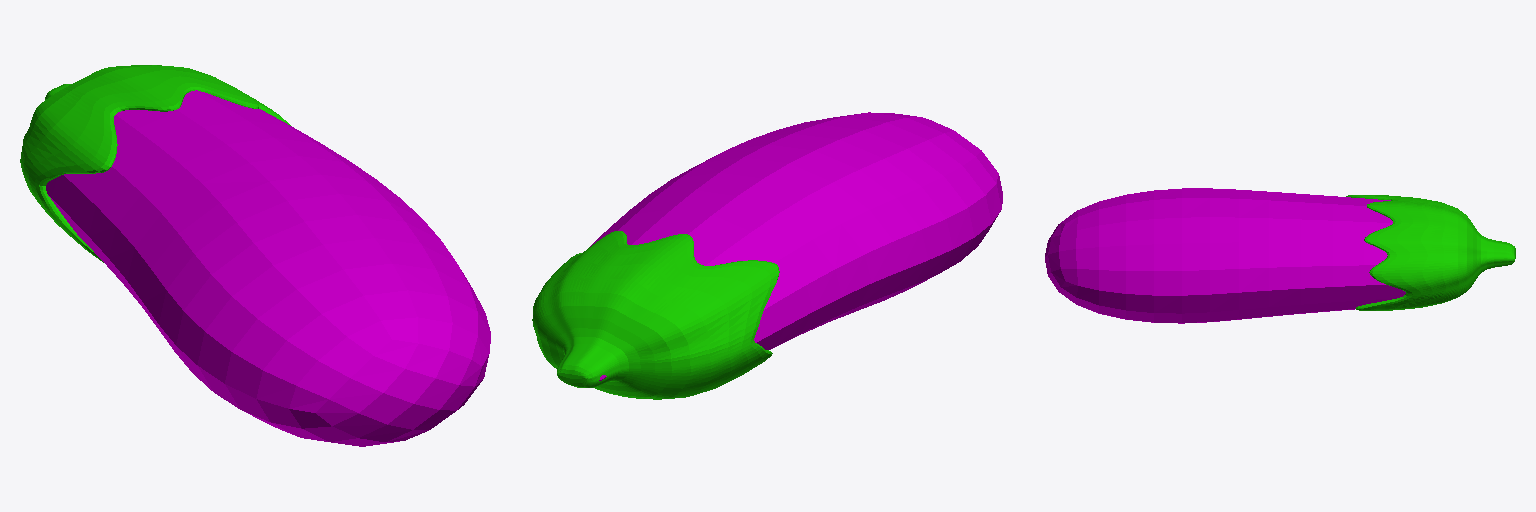
robot.urdf — eggplant:
<robot name="eggplant">
  <link name="body">
    <visual>
      <origin xyz="0 0 0" rpy="0 1.57 1.57"/> 
      <geometry>
        <mesh filename="eggplant_body.obj" scale="0.015 0.025 0.025"/>
      </geometry>
      <material name="Purple">
        <color rgba="0.8 0 0.8 1.0"/>
      </material>
    </visual>
    <collision>
      <geometry>
        <box size="0.04 0.04 0.04"/> <!-- 使用立方体作为简化的碰撞体 -->
      </geometry>
    </collision>
    <inertial>
      <mass value="0.1"/> <!-- 设置质量为0.1单位 -->
      <inertia ixx="0.001" iyy="0.001" izz="0.001" ixy="0" ixz="0" iyz="0"/> <!-- 简单的惯性矩阵 -->
    </inertial>
  </link>

  <link name="leaf">
    <visual>
      <origin xyz="0 0 0" rpy="0 1.57 0"/> 
      <geometry>
        <mesh filename="eggplant_leaf.obj" scale="0.015 0.025 0.025"/>
      </geometry>
      <material name="Green">
        <color rgba="0.143275 0.800000 0.049616 1.0"/> <!-- 叶子绿色 -->
      </material>
    </visual>
    <collision>
      <geometry>
        <box size="0.01 0.01 0.01"/> <!-- 使用更小的立方体作为简化的碰撞体 -->
      </geometry>
    </collision>
    <inertial>
      <mass value="0.02"/> <!-- 叶子的质量设置为较小的值 -->
      <inertia ixx="0.0001" iyy="0.0001" izz="0.0001" ixy="0" ixz="0" iyz="0"/> <!-- 简单的惯性矩阵 -->
    </inertial>
  </link>

  <!-- 将叶子连接到主体 -->
  <joint name="body_to_leaf" type="fixed">
    <parent link="body"/>
    <child link="leaf"/>
    <origin xyz="0 0 0" rpy="0 0 1.57"/>
  </joint>
</robot>

--- What the picture shows (computed from the rendered views, not written in the file) ---
3 views of the same robot in one strip: view 1: azimuth 30°, elevation 25°; view 2: azimuth 150°, elevation 25°; view 3: azimuth 270°, elevation 25° (orthographic).
Robot: eggplant — 2 links, 1 joints (1 fixed); root link body; default pose: every joint at zero.
Links seen in each view (by area): view 1: body, leaf; view 2: body, leaf; view 3: body, leaf.
Link boxes in pixels (box(x1,y1,x2,y2)): body: box(46, 90, 490, 446); leaf: box(20, 65, 290, 262); body: box(590, 112, 1002, 380); leaf: box(532, 231, 779, 399); body: box(1045, 188, 1405, 323); leaf: box(1346, 195, 1515, 310).
Size in the robot's own frame: 0.0567 by 0.1306 by 0.0342 metres.
Meshes: 2 distinct files referenced, 2 mesh visuals loaded (2 OBJ).
